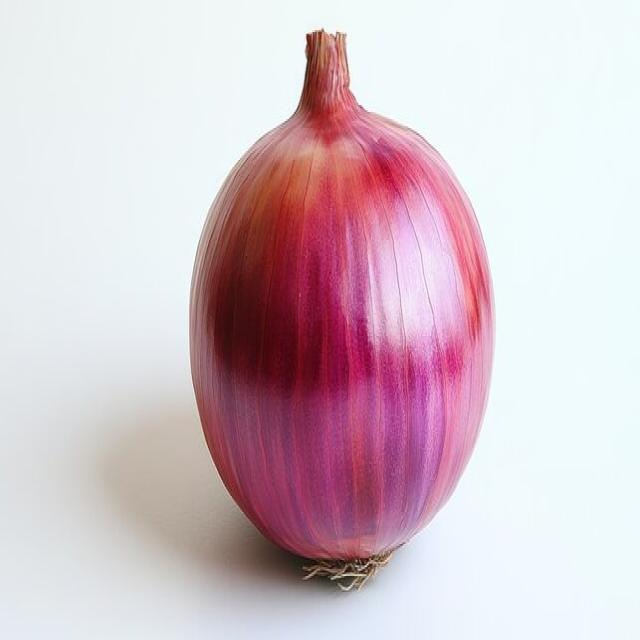Onion: (187, 27, 496, 590)
